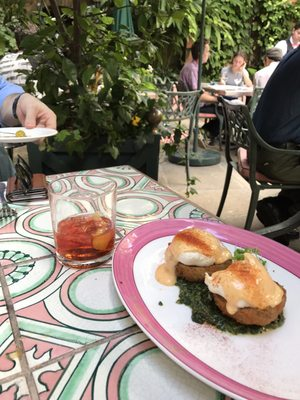pizza: (47, 174, 118, 268)
